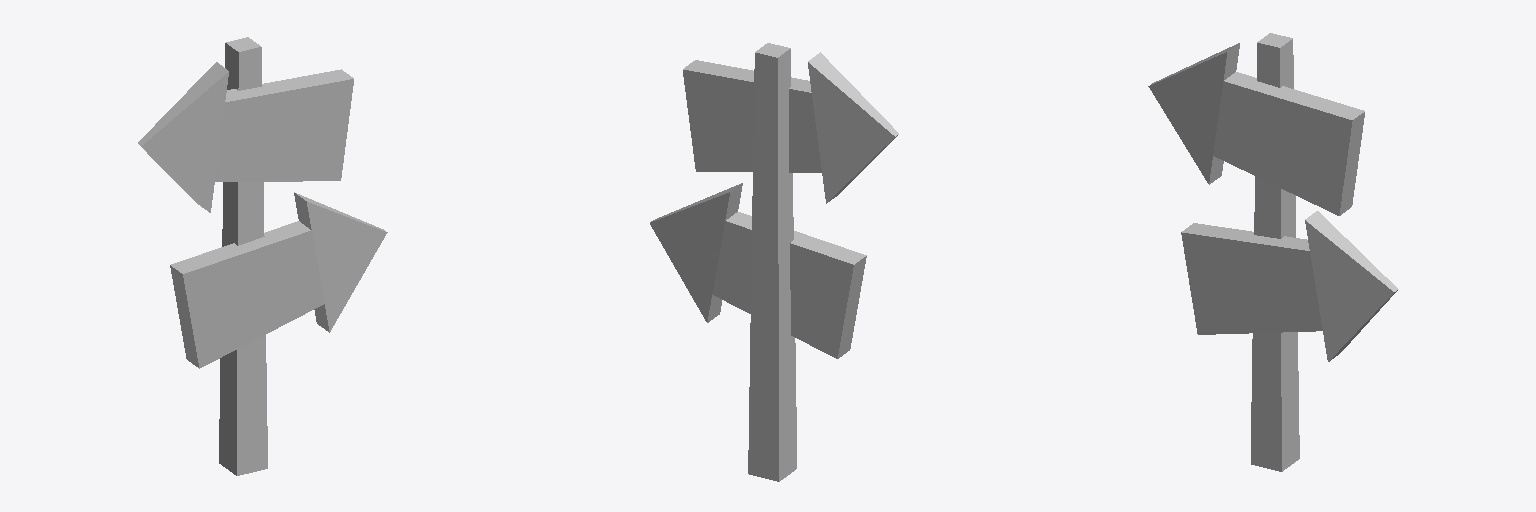
Rendered from arrows.obj.
The picture shows the model from 3 angles: view 1: azimuth 30°, elevation 25°; view 2: azimuth 150°, elevation 25°; view 3: azimuth 330°, elevation 25°; orthographic projection.
Parts seen in each view (by area): view 1: mesh_0, mesh_1; view 2: mesh_0, mesh_1; view 3: mesh_0, mesh_1.
Part boxes in pixels (bbox=[...]): mesh_0: bbox=[138, 62, 387, 368]; mesh_1: bbox=[219, 37, 267, 475]; mesh_0: bbox=[650, 52, 898, 358]; mesh_1: bbox=[748, 43, 796, 481]; mesh_0: bbox=[1148, 43, 1398, 361]; mesh_1: bbox=[1251, 33, 1299, 471].
Bounding box in the file's own units: 1.24 × 2.03 × 0.2249.